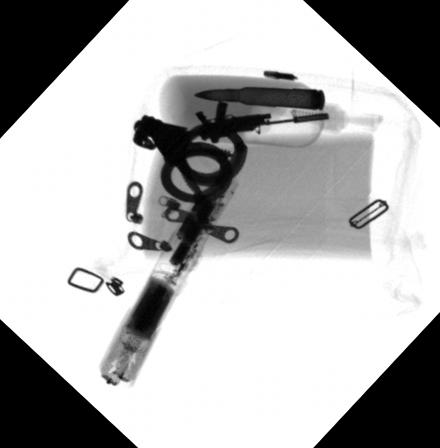Baton: (95, 167, 240, 389)
Bullet: (192, 85, 321, 108)
Gun: (157, 101, 328, 153)
HandCuffs: (128, 116, 248, 205)
